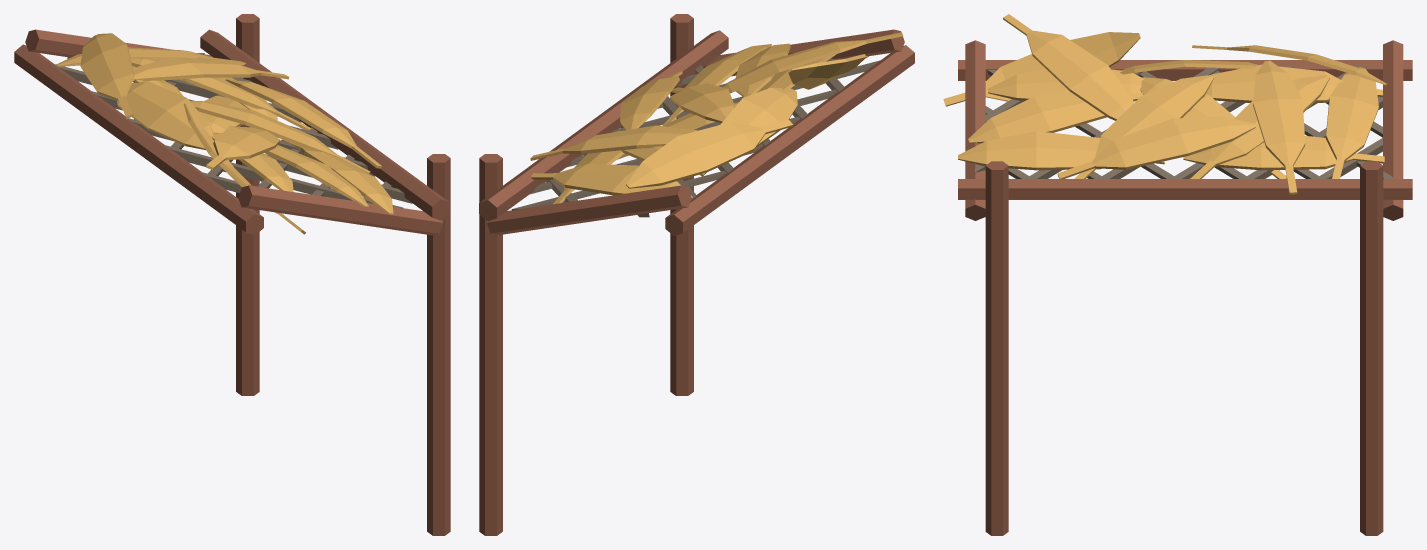
The model's file is Awning B.fbx.
The picture shows the model from 3 angles, left to right: view 1: azimuth 30°, elevation 25°; view 2: azimuth 150°, elevation 25°; view 3: azimuth 270°, elevation 25°; orthographic projection. The views are drawn at different scales.
Visible parts, largest first — view 1: Awning B; view 2: Awning B; view 3: Awning B.
Boxes of the visible parts, x1=… form: Awning B: x1=14, y1=14, x2=450, y2=535; Awning B: x1=479, y1=14, x2=914, y2=535; Awning B: x1=943, y1=14, x2=1412, y2=535.
Size of the model in its own units: 205 by 348 by 359.
